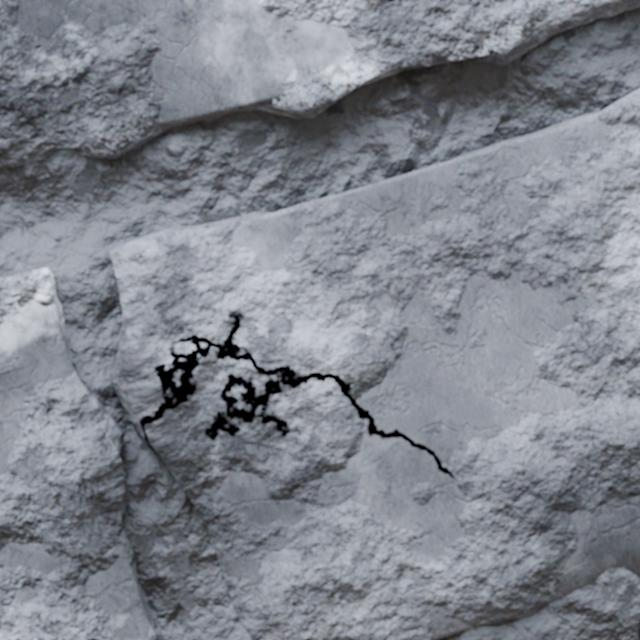crack: (109, 89, 639, 639), (0, 0, 639, 167), (0, 268, 163, 639)
